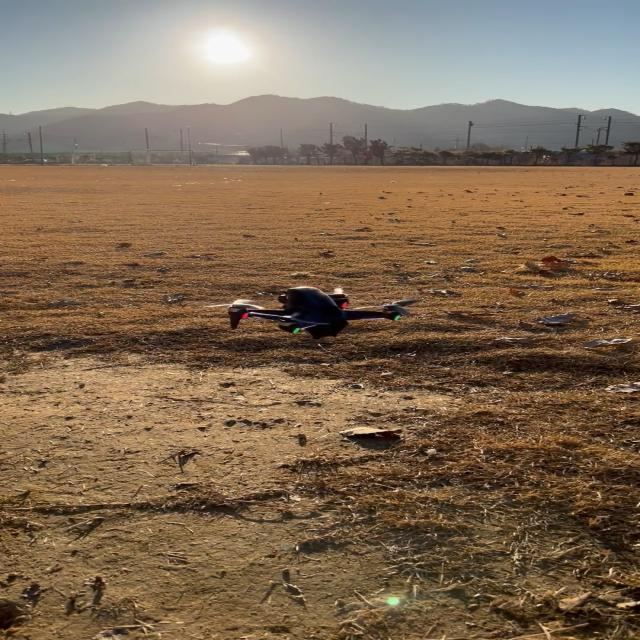drone: (204, 286, 422, 340)
